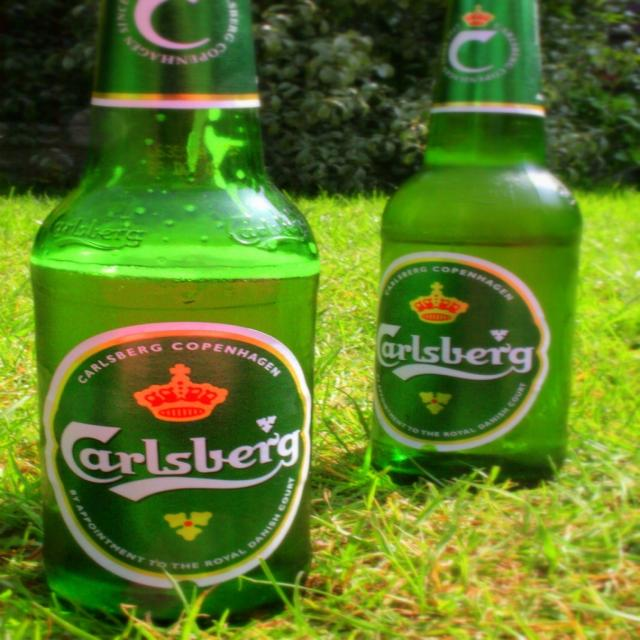carlsberg: (41, 324, 317, 584), (364, 256, 551, 452)
